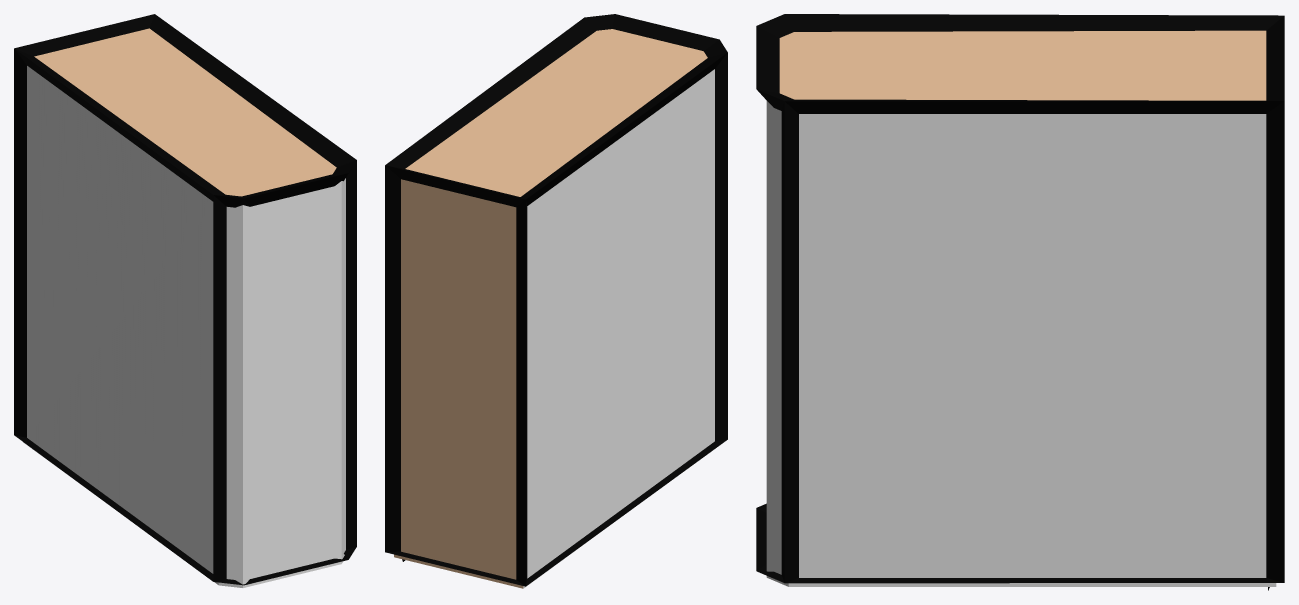
3 views of the same model, side by side, from view 1: azimuth 30°, elevation 25°; view 2: azimuth 150°, elevation 25°; view 3: azimuth 270°, elevation 25° (orthographic). The views are drawn at different scales.
Visible parts, largest first — view 1: Book_1, Outlines; view 2: Book_1, Outlines; view 3: Book_1, Outlines.
Part boxes in pixels (<box>): Book_1: <box>23,28,345,587</box>; Outlines: <box>14,14,356,585</box>; Book_1: <box>394,29,714,588</box>; Outlines: <box>385,14,727,586</box>; Book_1: <box>766,30,1276,586</box>; Outlines: <box>756,14,1284,590</box>.
Bounding box in the file's own units: 0.1456 × 0.3876 × 0.3723.
